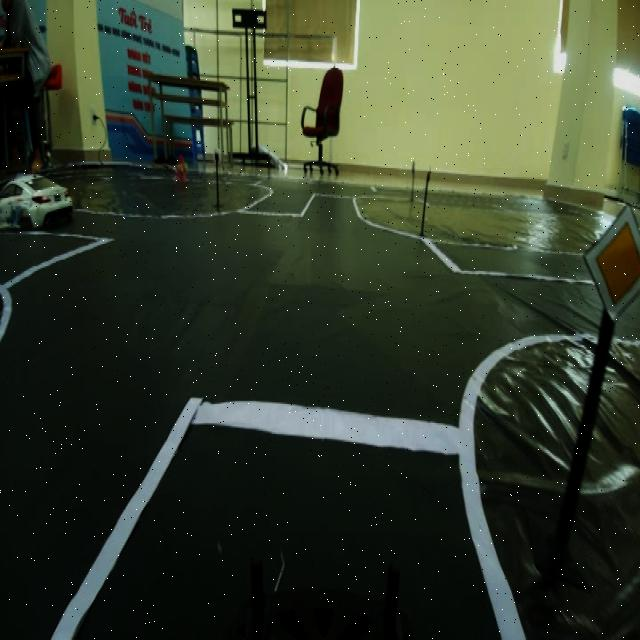priority: (578, 200, 640, 324)
